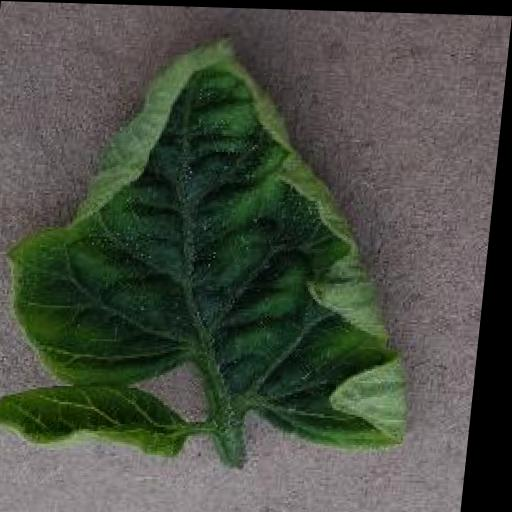Yellow Leaf Curl Virus: (0, 26, 450, 452)
